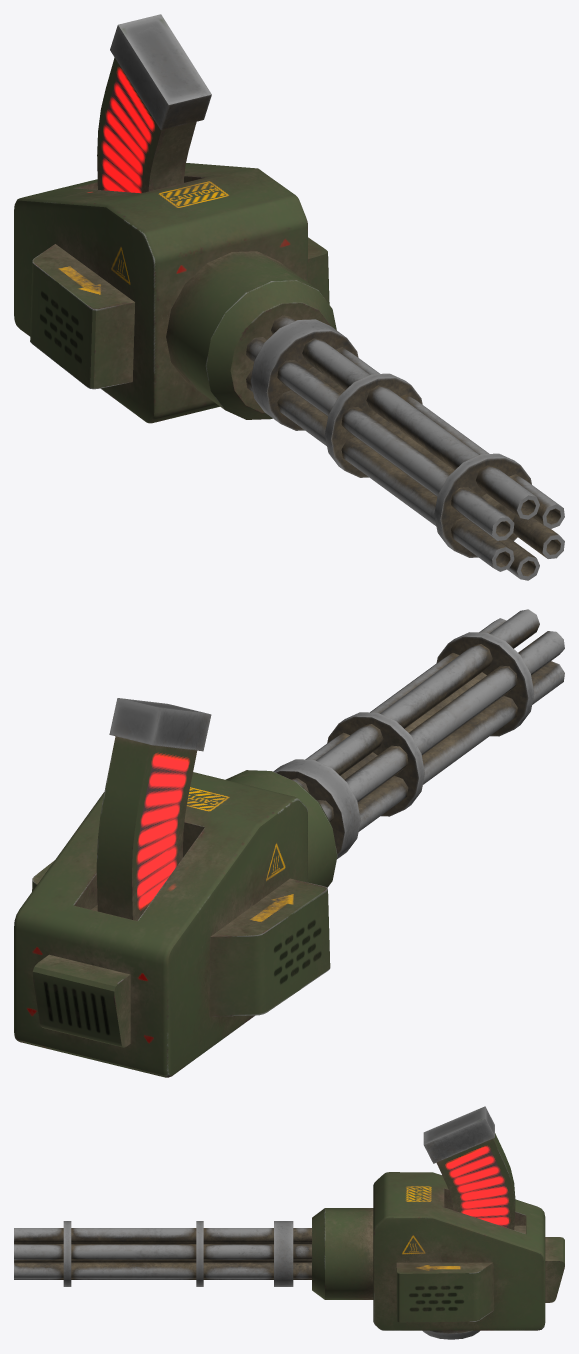
File: SM_Minigun.fbx
The picture shows the model from 3 angles, top to bottom: view 1: azimuth 30°, elevation 25°; view 2: azimuth 150°, elevation 25°; view 3: azimuth 270°, elevation 25°; orthographic projection. The views are drawn at different scales.
Visible parts, largest first — view 1: SM_MinigunBody, SM_MinigunBarrels; view 2: SM_MinigunBody, SM_MinigunBarrels; view 3: SM_MinigunBody, SM_MinigunBarrels.
Part boxes in pixels (x1,y1,x2,y2): SM_MinigunBody: (14, 14, 329, 423); SM_MinigunBarrels: (166, 251, 564, 580); SM_MinigunBody: (14, 698, 330, 1077); SM_MinigunBarrels: (225, 609, 564, 887); SM_MinigunBody: (373, 1106, 564, 1339); SM_MinigunBarrels: (14, 1208, 373, 1299).
Size of the model in its own units: 56.41 by 79.06 by 184.
